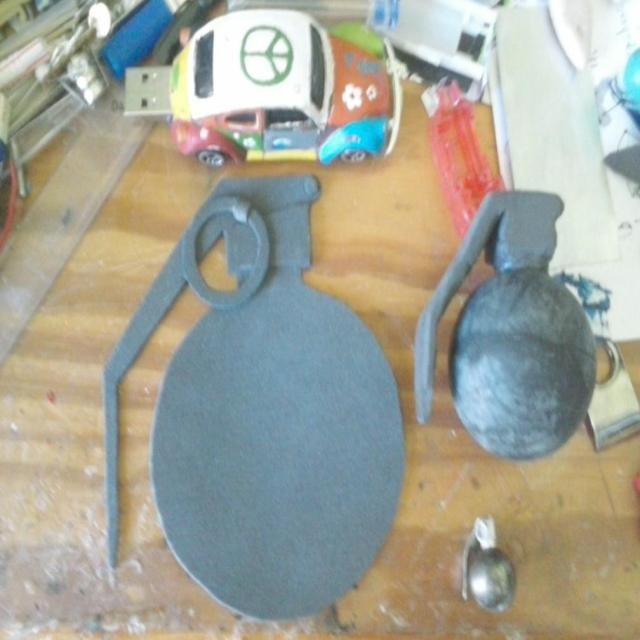grenade: (420, 190, 599, 461), (463, 513, 519, 620)
